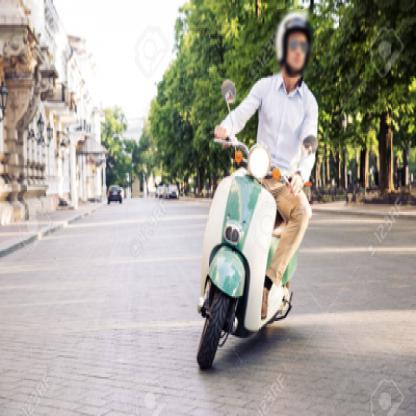Helmet: (268, 7, 313, 81)
